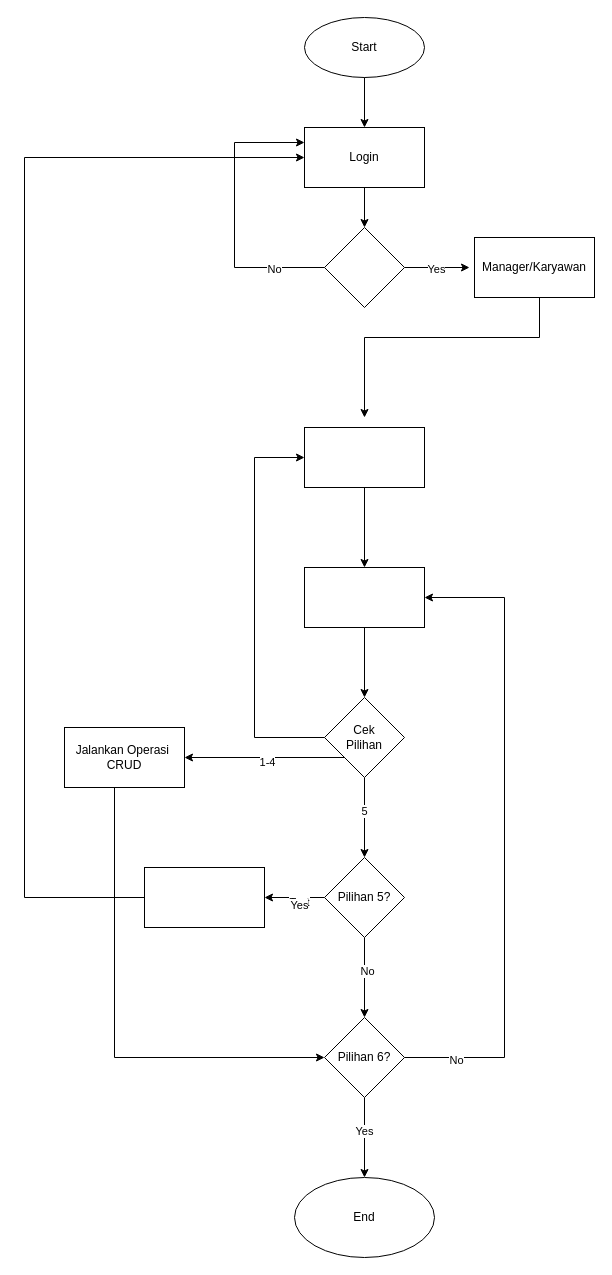
The diagram is 612 pixels wide and 1275 high, and some of its shapes have lost their labels. The shapes that lost their labels are listed below. From the top down, each one's box as (x1, y1, x2, y2) in pixels, then its label:
(324, 226, 404, 308): Login Berhasil?
(304, 426, 424, 488): Tampilkan Menu
(304, 566, 424, 628): Iput Pilihan Menu
(144, 866, 264, 928): Logout
